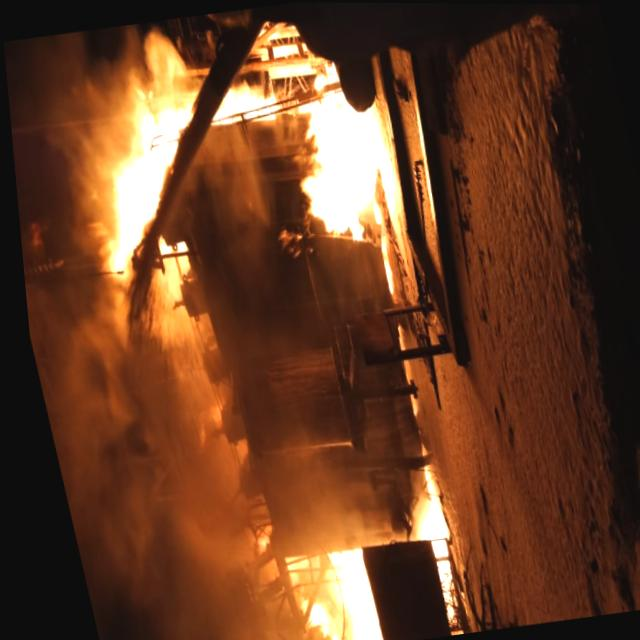Fire: (18, 263, 270, 640), (192, 14, 405, 264), (68, 84, 228, 330), (384, 459, 460, 634), (271, 542, 372, 640)
